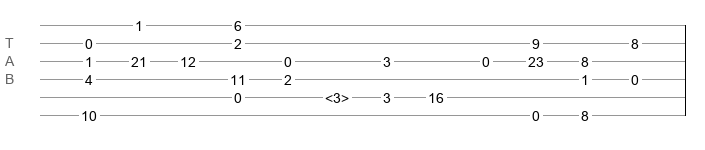0: (85, 36, 93, 46), (234, 90, 242, 100), (284, 54, 292, 64), (482, 54, 490, 64), (532, 108, 540, 118), (631, 72, 639, 82)
1: (85, 54, 93, 64), (135, 18, 143, 28), (581, 72, 589, 82)
10: (81, 108, 97, 118)
11: (230, 72, 246, 82)
12: (180, 54, 196, 64)
16: (428, 90, 444, 100)
2: (234, 36, 242, 46), (284, 72, 292, 82)
21: (131, 54, 147, 64)
23: (528, 54, 544, 64)
3: (383, 54, 391, 64), (383, 90, 391, 100)
4: (85, 72, 93, 82)
6: (234, 18, 242, 28)
8: (581, 54, 589, 64), (581, 108, 589, 118), (631, 36, 639, 46)
9: (532, 36, 540, 46)
harmonic: (325, 90, 349, 100)
